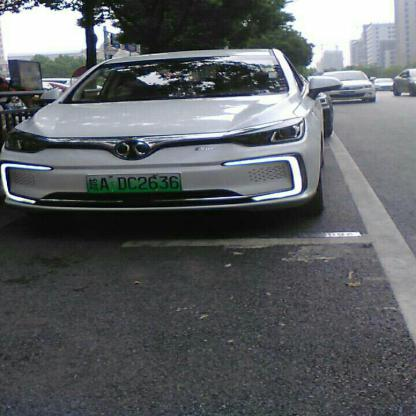lp: (86, 172, 183, 193)
